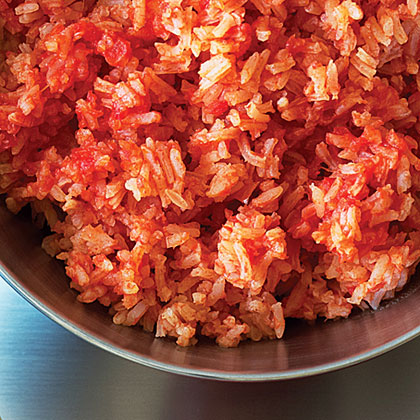Nasi Merah: (1, 1, 419, 324)
